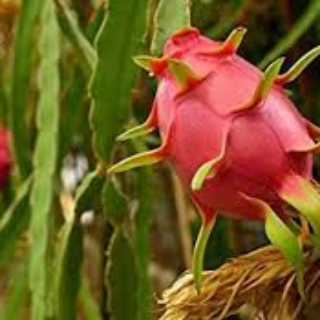thanh_long: (143, 30, 315, 232)
